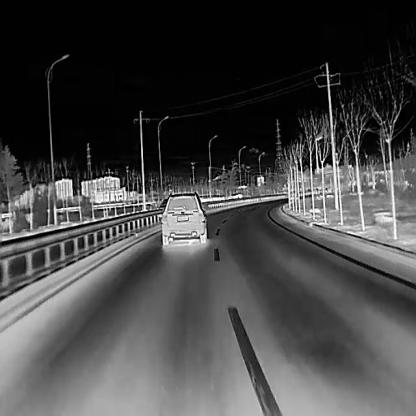car: (160, 188, 207, 246)
